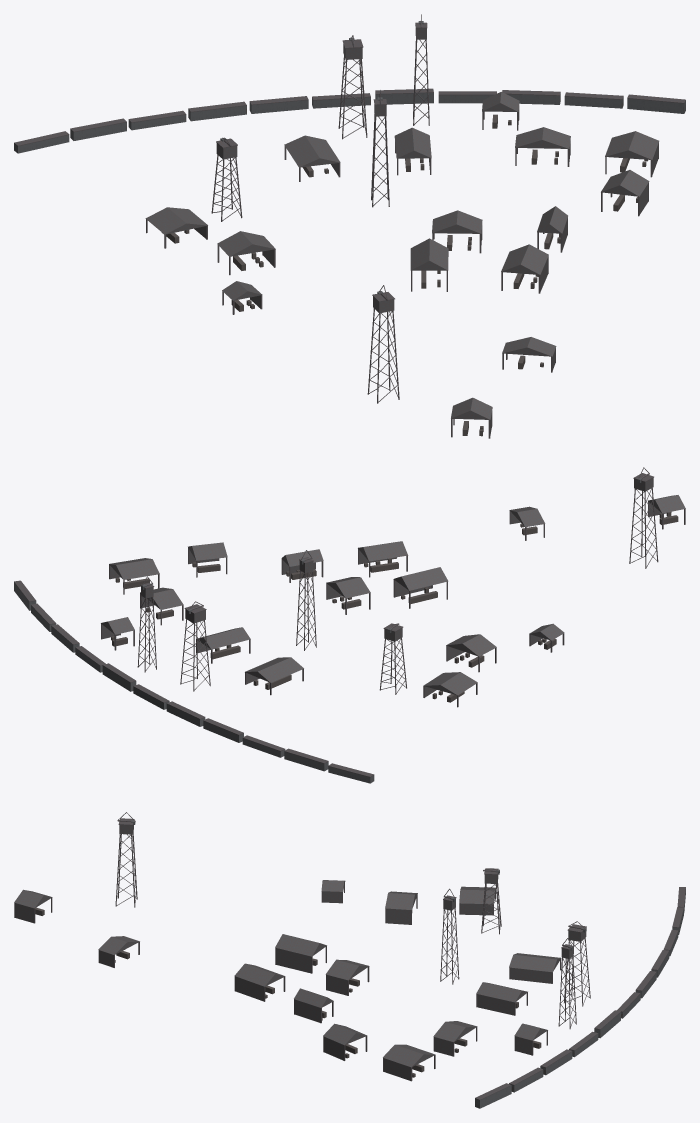
The model's file is SM_City_MarsaAlFajr_1.fbx.
3 renders of one model, top to bottom at view 1: azimuth 30°, elevation 25°; view 2: azimuth 150°, elevation 25°; view 3: azimuth 270°, elevation 25°, orthographic. The views are drawn at different scales.
Parts seen in each view (by area): view 1: SM_City_MarsaAlFajr_1; view 2: SM_City_MarsaAlFajr_1; view 3: SM_City_MarsaAlFajr_1.
Boxes of the visible parts, left/top/right/bottom form: SM_City_MarsaAlFajr_1: left=14, top=14, right=685, bottom=438; SM_City_MarsaAlFajr_1: left=14, top=467, right=685, bottom=783; SM_City_MarsaAlFajr_1: left=14, top=812, right=685, bottom=1108.
Size of the model in its own units: 9013 by 1780 by 11781.
4 materials, 4 textured.
